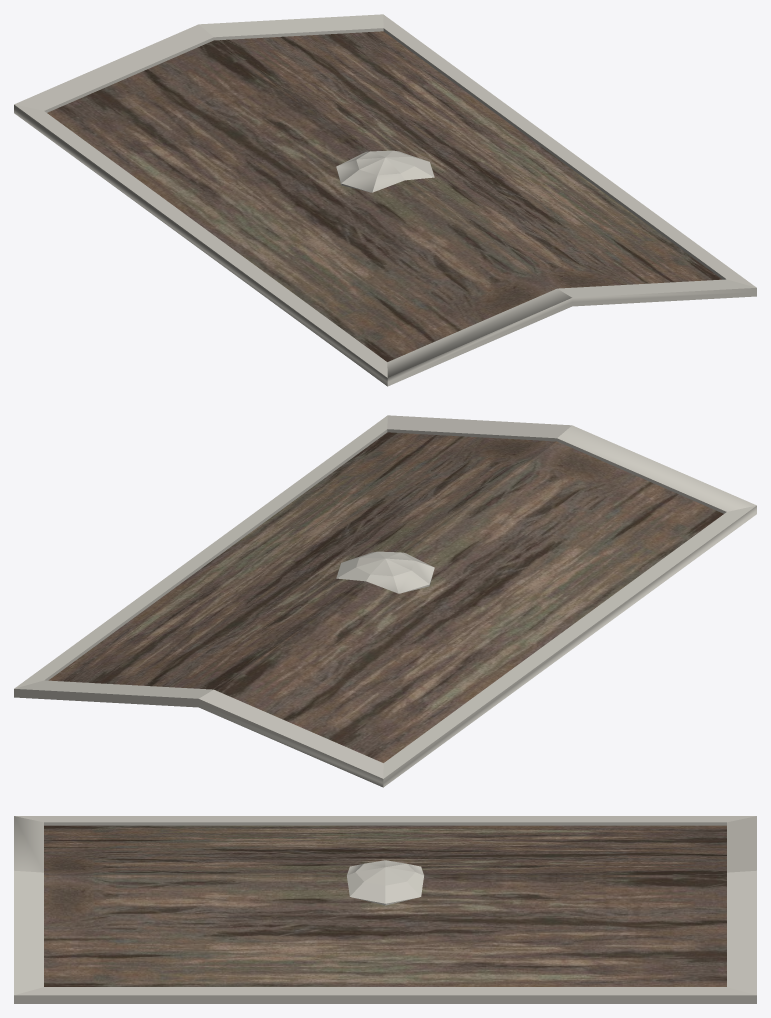
File: shield model.fbx
3 views of the same model, one above another, from view 1: azimuth 30°, elevation 25°; view 2: azimuth 150°, elevation 25°; view 3: azimuth 270°, elevation 25° (orthographic).
Visible parts, largest first — view 1: TowerShield; view 2: TowerShield; view 3: TowerShield.
Part boxes in pixels (x1,y1,x2,y2): TowerShield: (14,14,756,386); TowerShield: (14,415,756,787); TowerShield: (14,816,756,1003).
Size of the model in its own units: 180 by 21.99 by 314.
Materials: 1 (1 with a texture image).
